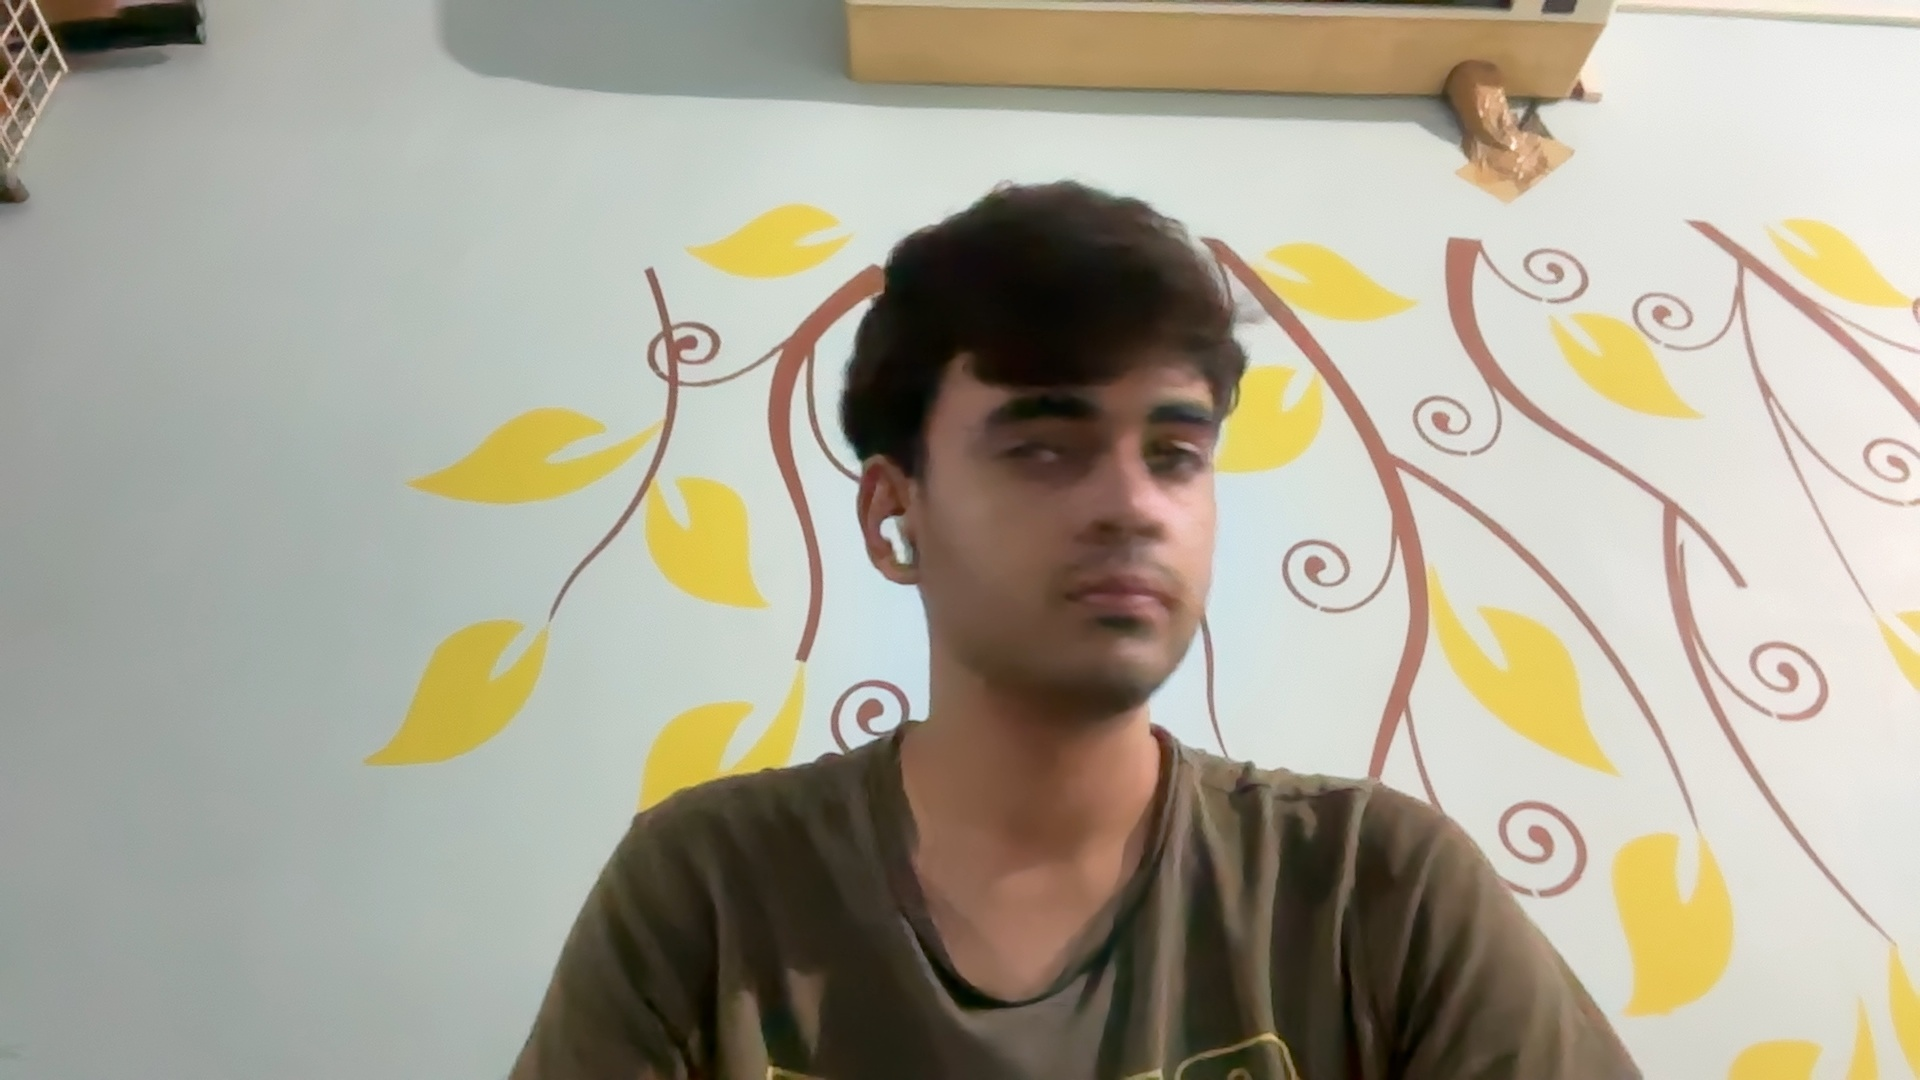No Mask: (935, 486, 1259, 723)
